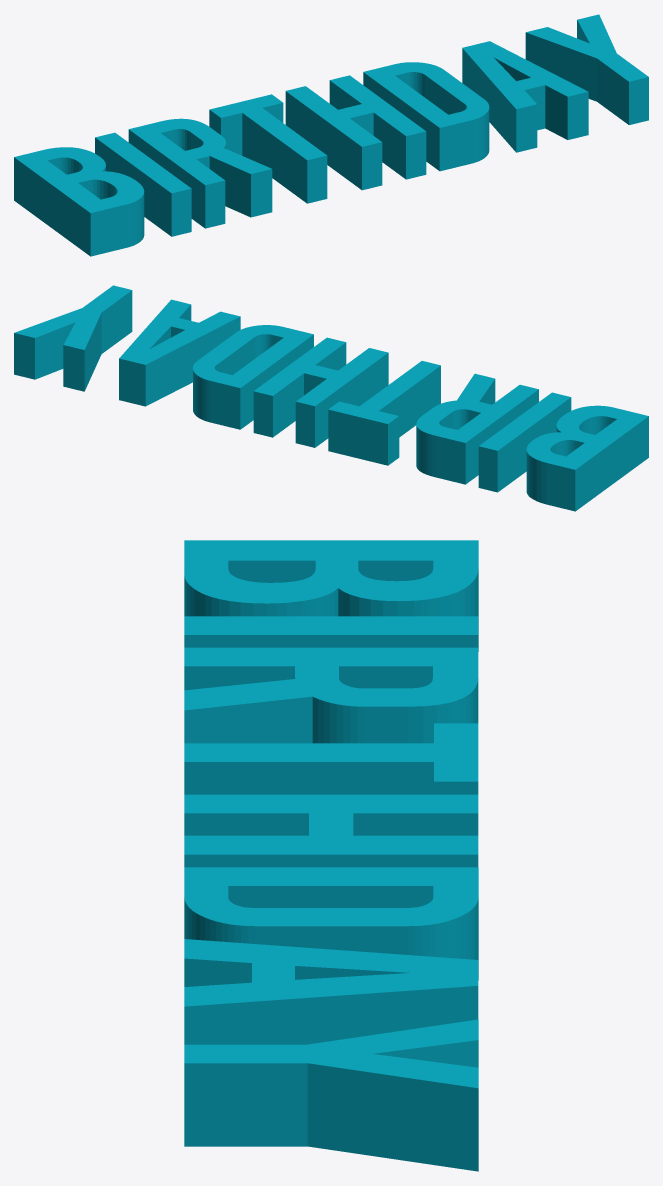
Rendered from Birthday.glb.
The picture shows the model from 3 angles, top to bottom: view 1: azimuth 30°, elevation 25°; view 2: azimuth 150°, elevation 25°; view 3: azimuth 270°, elevation 25°; orthographic projection. The views are drawn at different scales.
Visible parts, largest first — view 1: Mesh_Mesh_head_geo.001_lambert2SG.001; view 2: Mesh_Mesh_head_geo.001_lambert2SG.001; view 3: Mesh_Mesh_head_geo.001_lambert2SG.001.
Part boxes in pixels (x1,y1,x2,y2): Mesh_Mesh_head_geo.001_lambert2SG.001: (14,14,648,256); Mesh_Mesh_head_geo.001_lambert2SG.001: (14,285,648,511); Mesh_Mesh_head_geo.001_lambert2SG.001: (184,540,478,1171).
Bounding box in the file's own units: 212 × 15 × 48.
